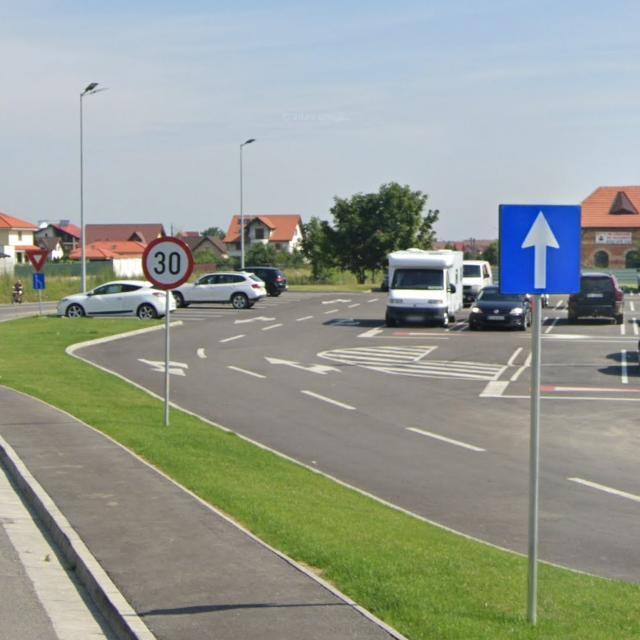forb_speed_over_30: (144, 237, 193, 289)
prio_give_way: (25, 249, 50, 272)
